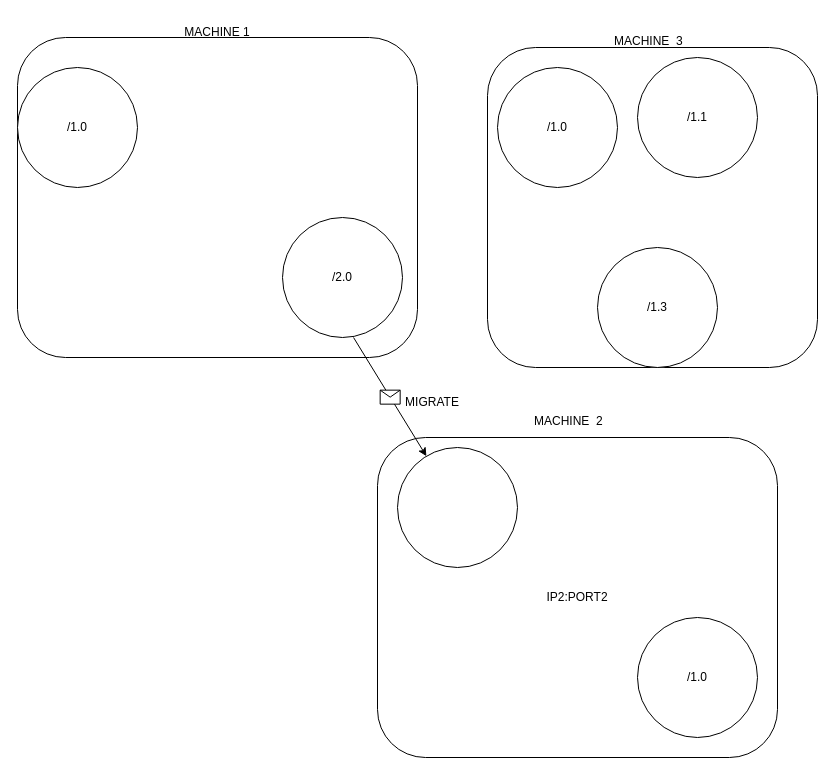
Some shapes in this 835 by 775 pixel diagram are drawn without their labels. Here are the shapes that lost their labels. From the top down, the box of each, then its label:
(16, 36, 418, 358): IP1:PORT1
(486, 46, 818, 368): IP3:PORT3
(396, 446, 518, 568): IP1:PORT1/2.0
